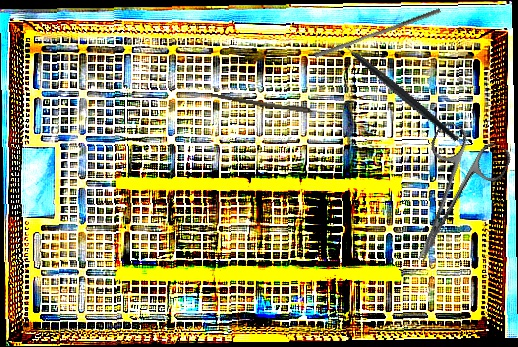Chopper: (328, 10, 460, 172)
Iris Scissors: (382, 118, 515, 277)
Pusher: (313, 3, 442, 63)
Surgical Spoon: (210, 93, 346, 119)
